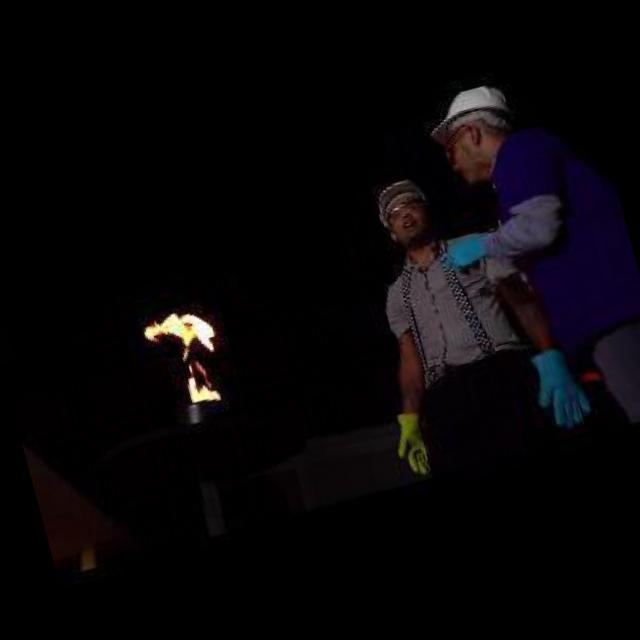fire: (142, 294, 253, 410)
